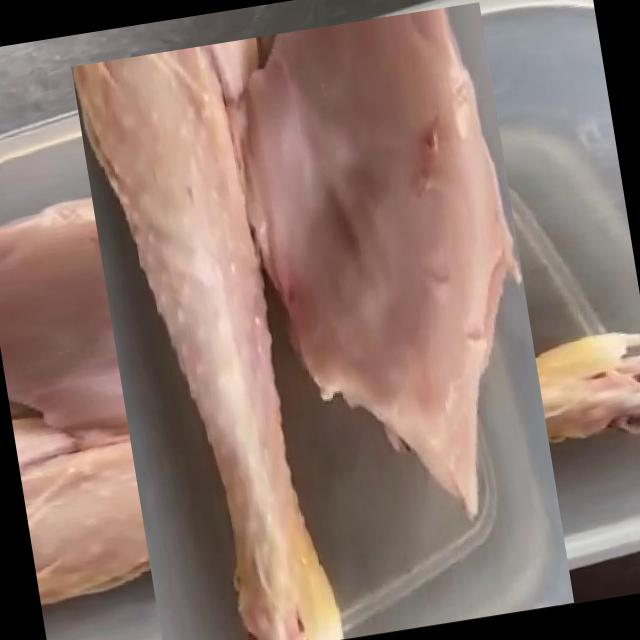chicken: (23, 49, 626, 640)
